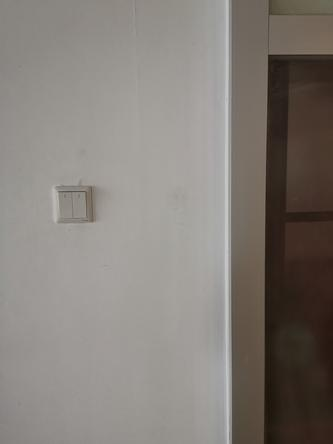switch: (68, 188, 89, 220), (57, 189, 75, 220)
